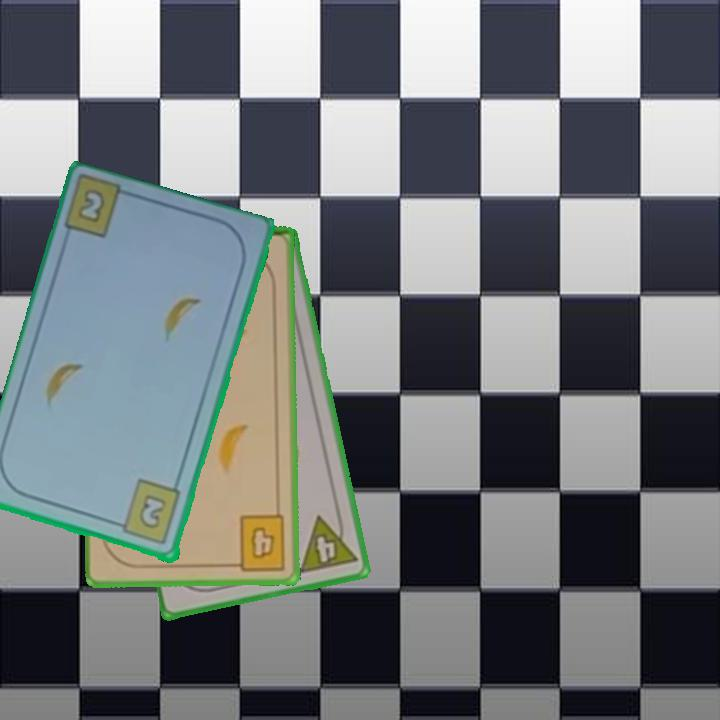2b: (111, 477, 184, 548), (74, 185, 108, 227)
4b: (226, 511, 288, 573)
4p: (295, 508, 360, 577)
